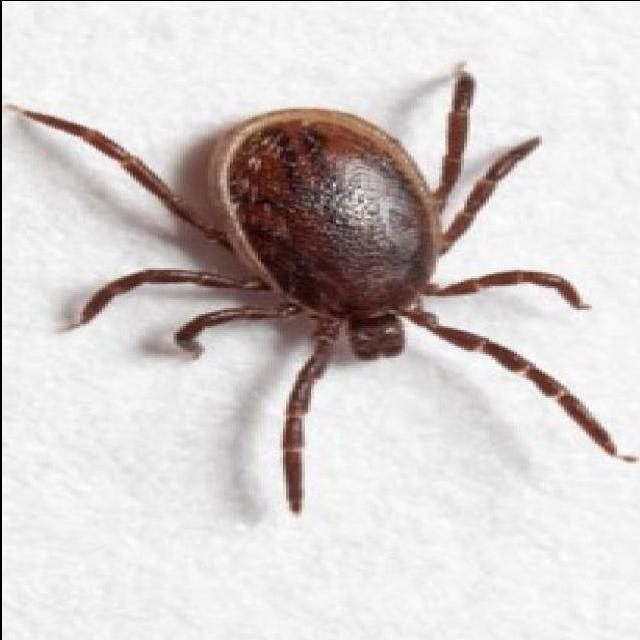Ixodes Ricinus-M: (19, 66, 621, 514)
